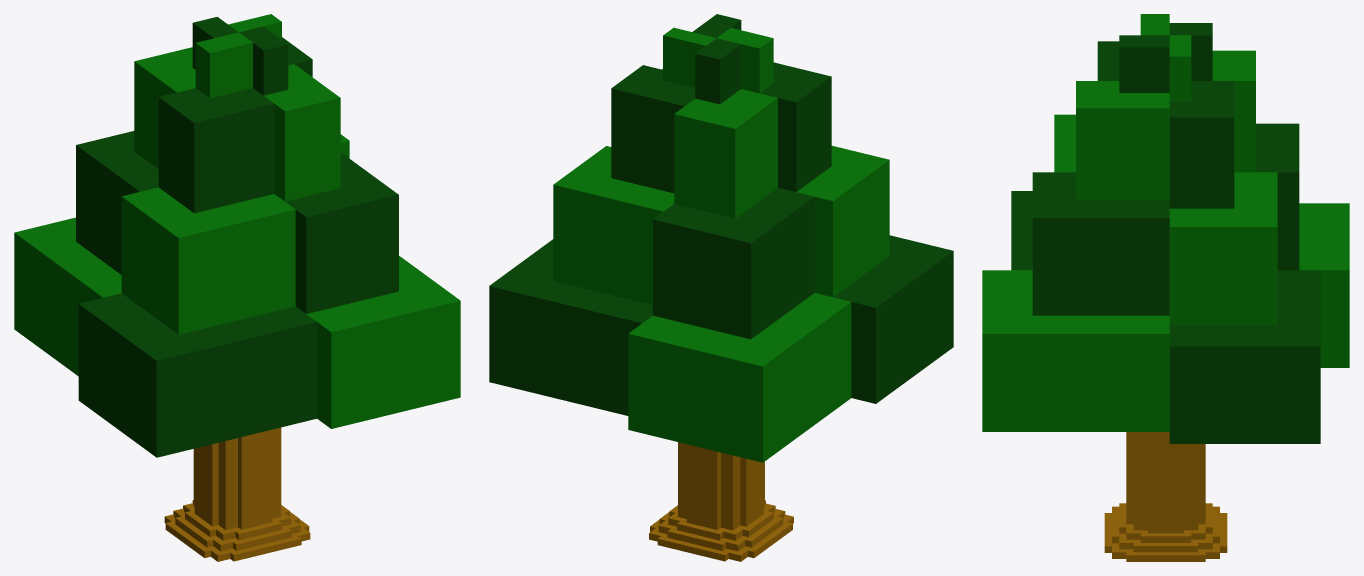
Rendered from tree02-2.fbx.
3 views of the same model, side by side, from view 1: azimuth 30°, elevation 25°; view 2: azimuth 150°, elevation 25°; view 3: azimuth 270°, elevation 25° (orthographic).
Parts seen in each view (by area): view 1: Tree02-2, Tree02-Stem, Tree02-Root; view 2: Tree02-2, Tree02-Stem, Tree02-Root; view 3: Tree02-2, Tree02-Stem, Tree02-Root.
Boxes of the visible parts, <box> form: Tree02-2: <box>14,14,460,457</box>; Tree02-Stem: <box>193,427,281,529</box>; Tree02-Root: <box>164,500,310,561</box>; Tree02-2: <box>489,14,953,462</box>; Tree02-Stem: <box>678,442,764,530</box>; Tree02-Root: <box>649,500,793,561</box>; Tree02-2: <box>982,14,1349,443</box>; Tree02-Stem: <box>1126,432,1205,533</box>; Tree02-Root: <box>1104,503,1227,561</box>.
Size of the model in its own units: 510 by 770 by 510.
